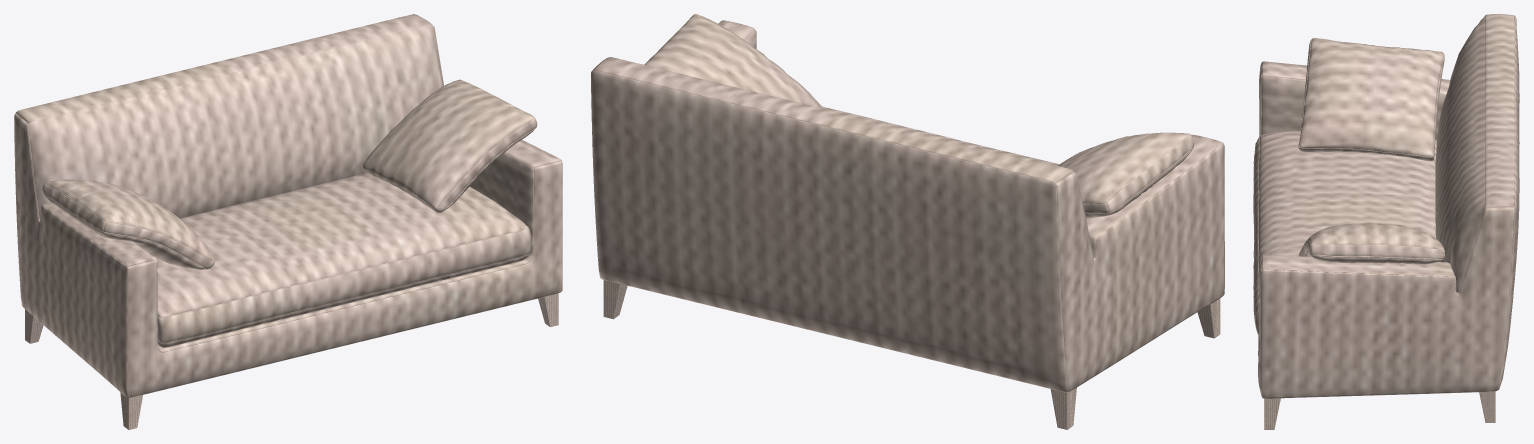
File: sofa.glb
3 views of the same model, side by side, from view 1: azimuth 30°, elevation 25°; view 2: azimuth 150°, elevation 25°; view 3: azimuth 270°, elevation 25° (orthographic). The views are drawn at different scales.
Visible parts, largest first — view 1: mpm_vol.07_p24; view 2: mpm_vol.07_p24; view 3: mpm_vol.07_p24.
Part boxes in pixels (box(x1,y1,x2,y2)): mpm_vol.07_p24: box(14, 14, 562, 429); mpm_vol.07_p24: box(591, 14, 1224, 429); mpm_vol.07_p24: box(1253, 14, 1519, 429).
Size of the model in its own units: 286 by 139 by 153.
1 material, 1 textured.
